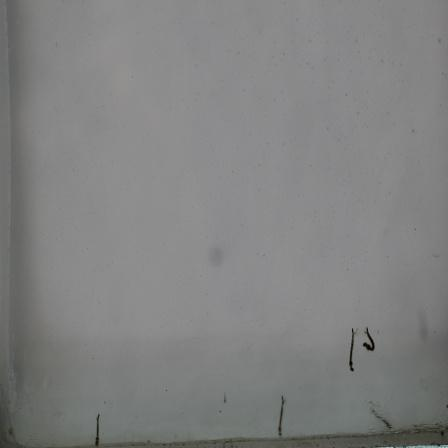Jentik-Nyamuk: (345, 323, 358, 377), (274, 392, 288, 439), (358, 326, 378, 354), (89, 412, 105, 447)
